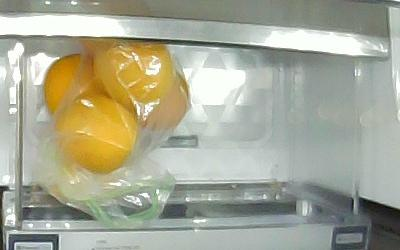orange_vinyl: (55, 93, 136, 174), (92, 40, 172, 107), (43, 54, 102, 118), (132, 70, 186, 130), (80, 39, 119, 57)
